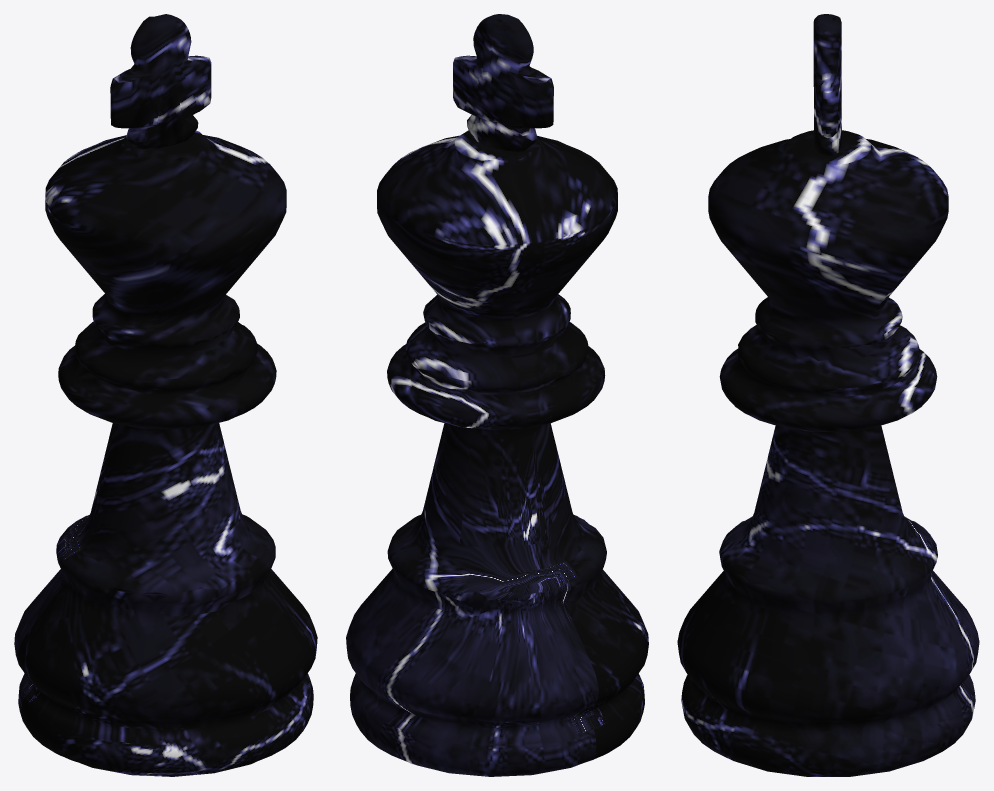
Rendered from black_king.glb.
The picture shows the model from 3 angles, left to right: view 1: azimuth 30°, elevation 25°; view 2: azimuth 150°, elevation 25°; view 3: azimuth 270°, elevation 25°; orthographic projection.
Parts seen in each view (by area): view 1: Circle; view 2: Circle; view 3: Circle.
Part boxes in pixels (bbox=[...]): Circle: bbox=[14, 14, 317, 776]; Circle: bbox=[346, 14, 648, 776]; Circle: bbox=[677, 14, 979, 776].
Size of the model in its own units: 1.47 by 3.77 by 1.47.
Materials: 1 (1 with a texture image).
